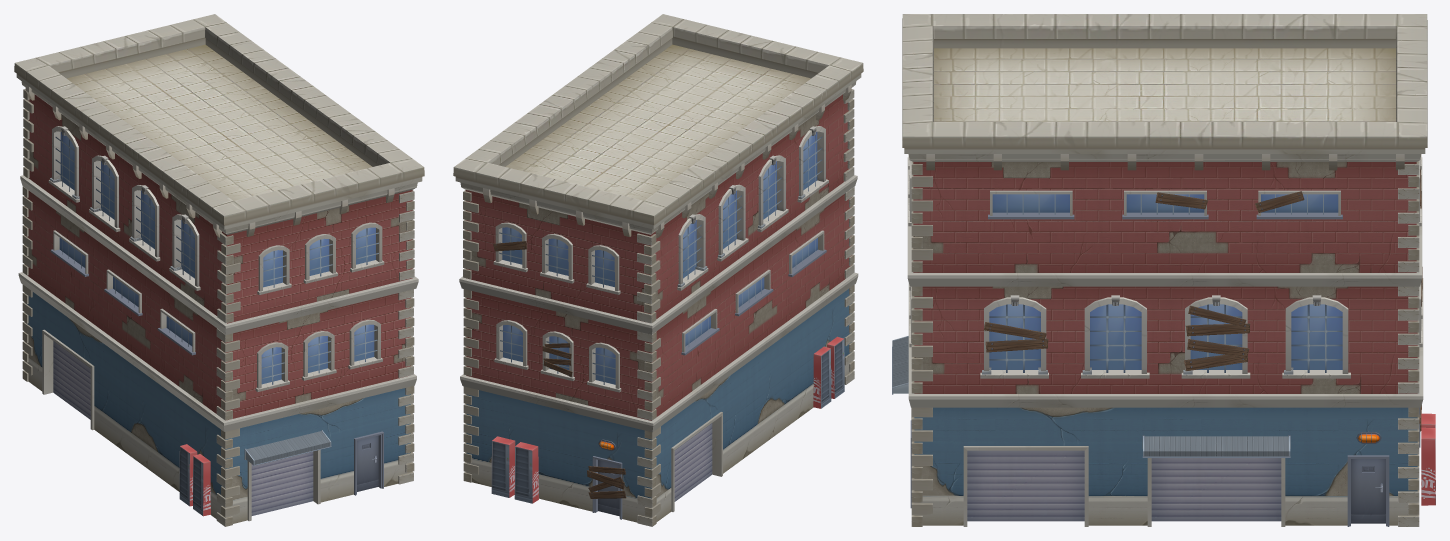
Rendered from Building_03_1_LOD1.fbx.
3 renders of one model, left to right at view 1: azimuth 30°, elevation 25°; view 2: azimuth 150°, elevation 25°; view 3: azimuth 270°, elevation 25°, orthographic. The views are drawn at different scales.
Parts seen in each view (by area): view 1: polySurface3685; view 2: polySurface3685; view 3: polySurface3685.
Boxes of the visible parts, x1,y1,x2,y2 form: polySurface3685: [14, 14, 424, 526]; polySurface3685: [453, 14, 863, 526]; polySurface3685: [892, 14, 1435, 526].
Size of the model in its own units: 762 by 1104 by 1375.
